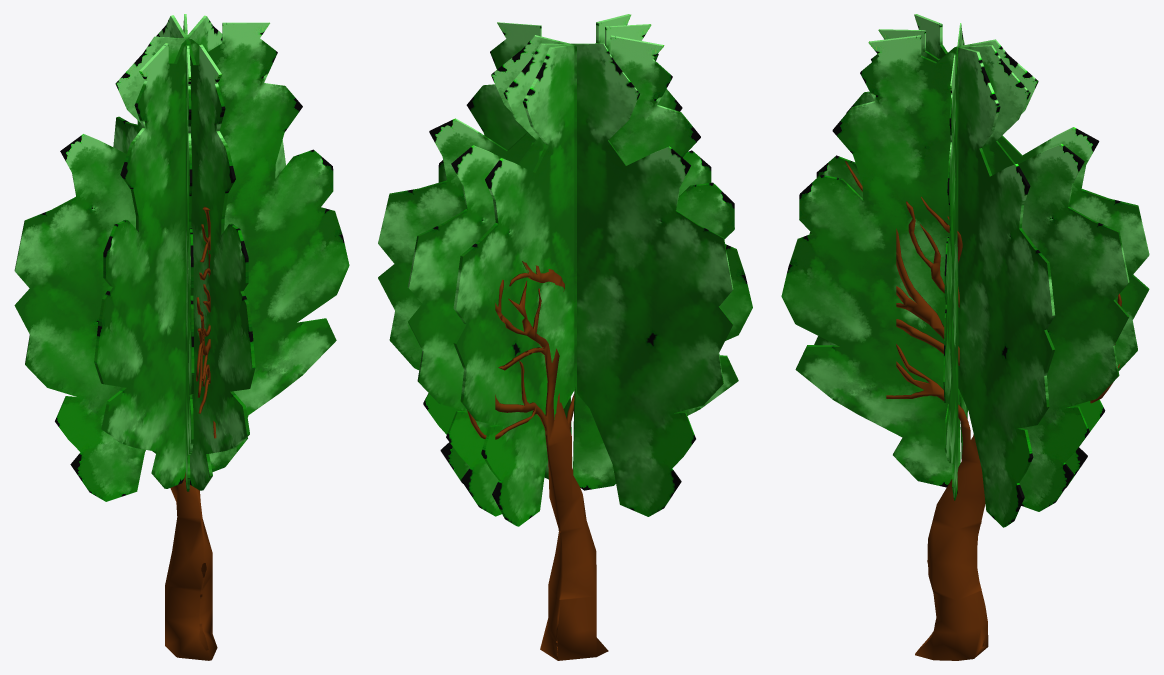
Rendered from tree 1.fbx.
3 renders of one model, left to right at view 1: azimuth 30°, elevation 25°; view 2: azimuth 150°, elevation 25°; view 3: azimuth 270°, elevation 25°, orthographic.
Visible parts, largest first — view 1: d2bc2ccb-dd17-4b76-b26a-1273e3ee6d55.001, d2bc2ccb-dd17-4b76-b26a-1273e3ee6d55.018, d2bc2ccb-dd17-4b76-b26a-1273e3ee6d55.019, c090c787-1d18-485c-aed2-695b9deaaf12, d2bc2ccb-dd17-4b76-b26a-1273e3ee6d55.020; view 2: d2bc2ccb-dd17-4b76-b26a-1273e3ee6d55.001, d2bc2ccb-dd17-4b76-b26a-1273e3ee6d55.019, d2bc2ccb-dd17-4b76-b26a-1273e3ee6d55.018, d2bc2ccb-dd17-4b76-b26a-1273e3ee6d55.020, c090c787-1d18-485c-aed2-695b9deaaf12; view 3: d2bc2ccb-dd17-4b76-b26a-1273e3ee6d55.019, d2bc2ccb-dd17-4b76-b26a-1273e3ee6d55.018, d2bc2ccb-dd17-4b76-b26a-1273e3ee6d55.020, c090c787-1d18-485c-aed2-695b9deaaf12, d2bc2ccb-dd17-4b76-b26a-1273e3ee6d55.001.
Boxes of the visible parts, x1,y1,x2,y2 form: d2bc2ccb-dd17-4b76-b26a-1273e3ee6d55.001: (14,22,349,501); d2bc2ccb-dd17-4b76-b26a-1273e3ee6d55.018: (94,15,285,488); d2bc2ccb-dd17-4b76-b26a-1273e3ee6d55.019: (113,15,255,490); c090c787-1d18-485c-aed2-695b9deaaf12: (165,206,217,660); d2bc2ccb-dd17-4b76-b26a-1273e3ee6d55.020: (183,14,194,491); d2bc2ccb-dd17-4b76-b26a-1273e3ee6d55.001: (438,22,733,516); d2bc2ccb-dd17-4b76-b26a-1273e3ee6d55.019: (453,14,630,526); d2bc2ccb-dd17-4b76-b26a-1273e3ee6d55.018: (378,35,752,490); d2bc2ccb-dd17-4b76-b26a-1273e3ee6d55.020: (408,24,711,516); c090c787-1d18-485c-aed2-695b9deaaf12: (467,261,608,660); d2bc2ccb-dd17-4b76-b26a-1273e3ee6d55.019: (781,35,1149,487); d2bc2ccb-dd17-4b76-b26a-1273e3ee6d55.018: (914,14,1054,527); d2bc2ccb-dd17-4b76-b26a-1273e3ee6d55.020: (809,29,1129,511); c090c787-1d18-485c-aed2-695b9deaaf12: (845,161,1121,660); d2bc2ccb-dd17-4b76-b26a-1273e3ee6d55.001: (943,23,967,500).
Size of the model in its own units: 64.1 by 118 by 63.77.
Materials: 5 (5 with a texture image).
